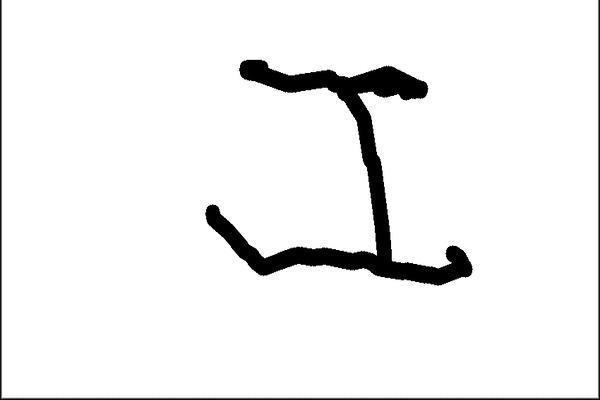i: (192, 41, 483, 302)
